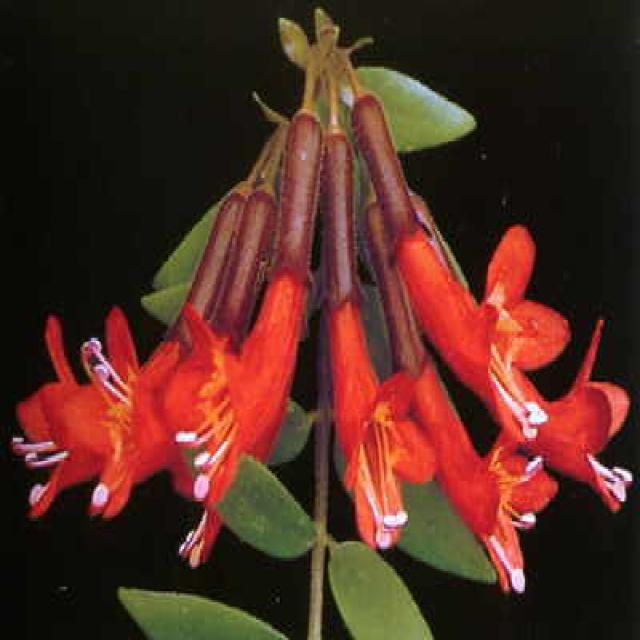Lipstick-Plant: (6, 98, 638, 600)
